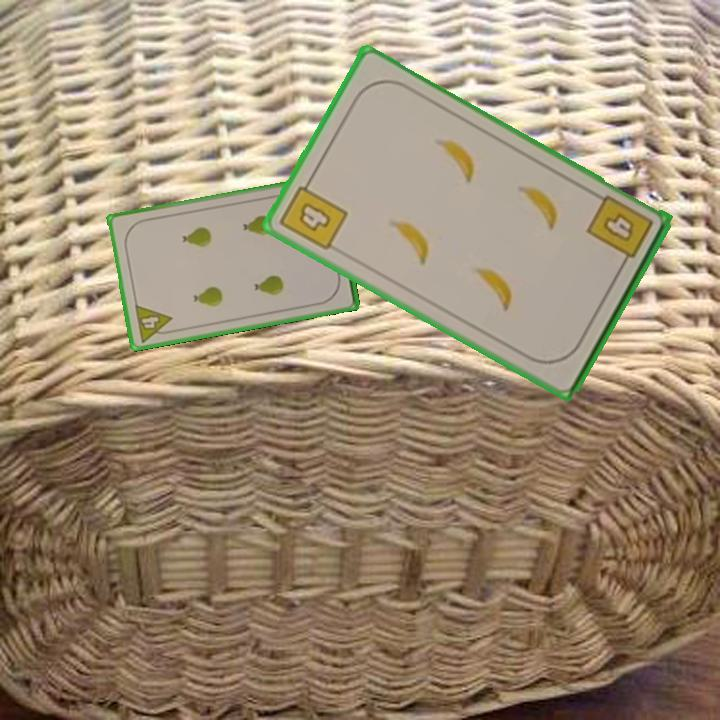4b: (275, 173, 351, 254), (583, 191, 656, 271)
4p: (131, 301, 177, 345)
